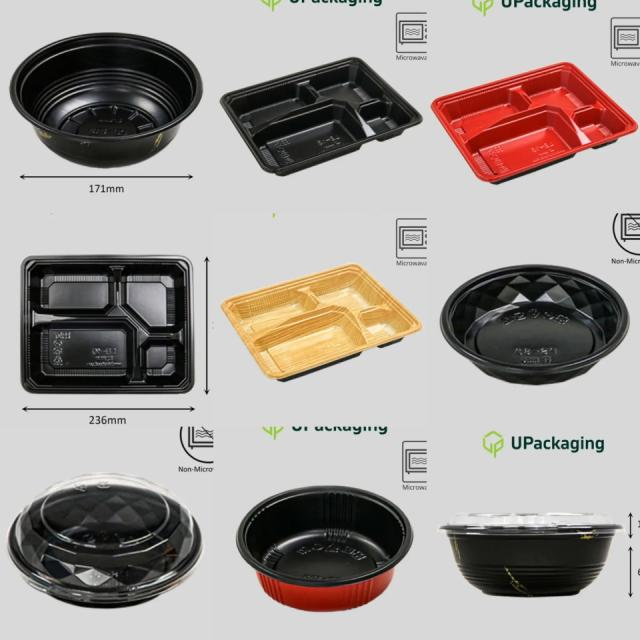Single-Use-Plastic: (10, 32, 202, 167), (8, 474, 201, 606), (431, 62, 638, 183), (21, 255, 194, 392), (220, 58, 422, 174), (221, 264, 421, 379), (440, 265, 629, 384), (236, 486, 412, 611), (440, 512, 622, 597)
